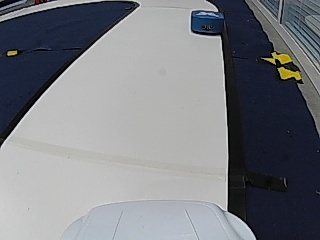prop: (191, 11, 224, 35)
